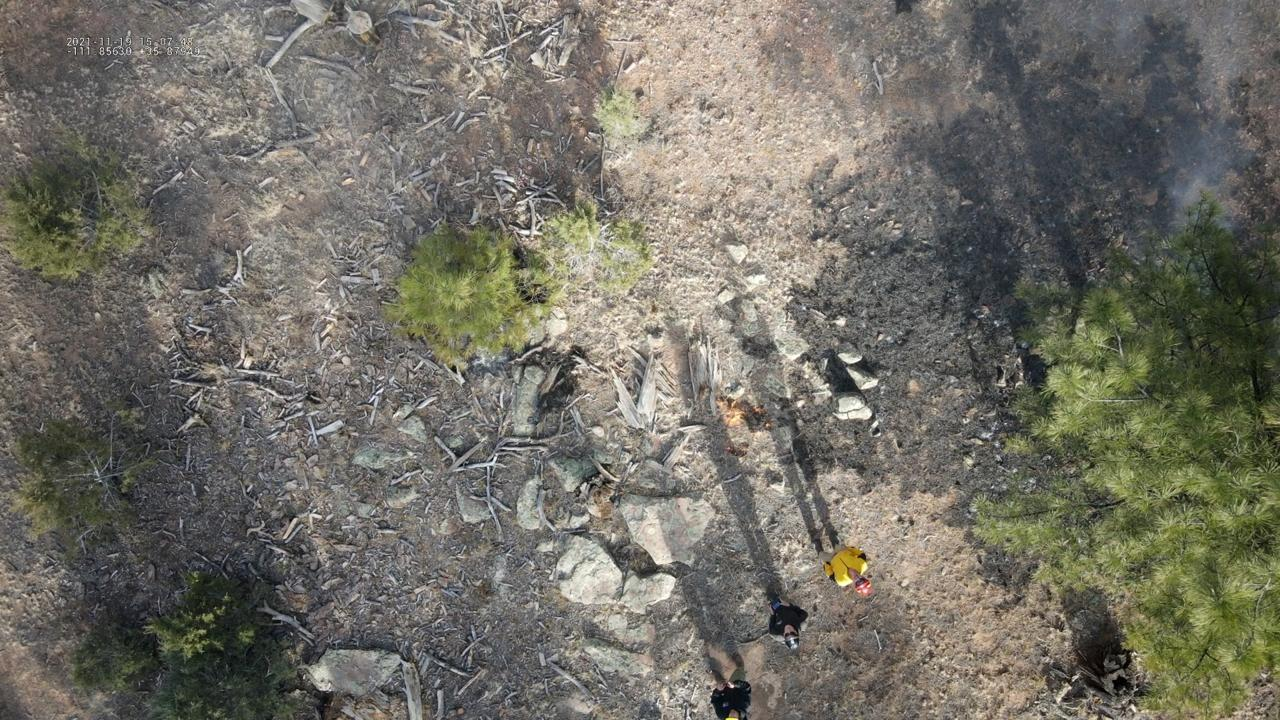fire: (715, 397, 744, 427), (754, 407, 764, 415), (765, 424, 771, 428), (726, 447, 731, 450)
smoke: (1168, 115, 1255, 233)
